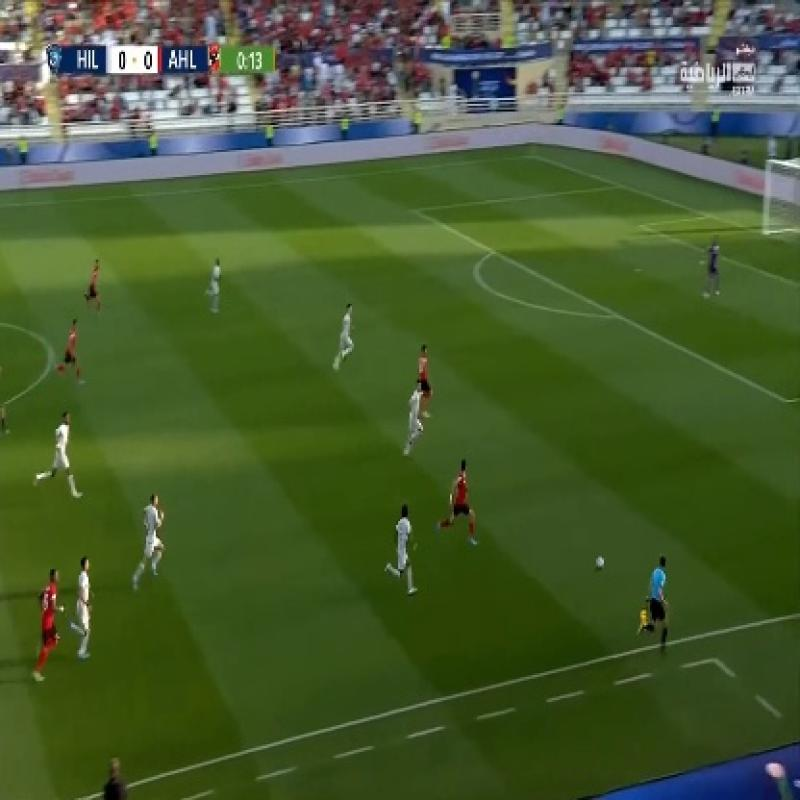1: (523, 150, 537, 160)
10: (479, 240, 505, 266)
11: (606, 306, 628, 326)
12: (780, 388, 796, 412)
2: (606, 178, 636, 194)
7: (628, 215, 654, 236)
9: (404, 198, 429, 222)
c: (35, 335, 68, 373)
